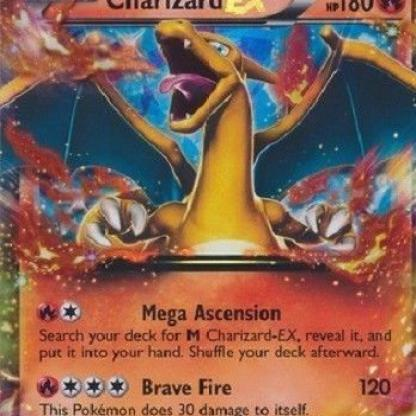Charizard: (1, 25, 416, 274)
